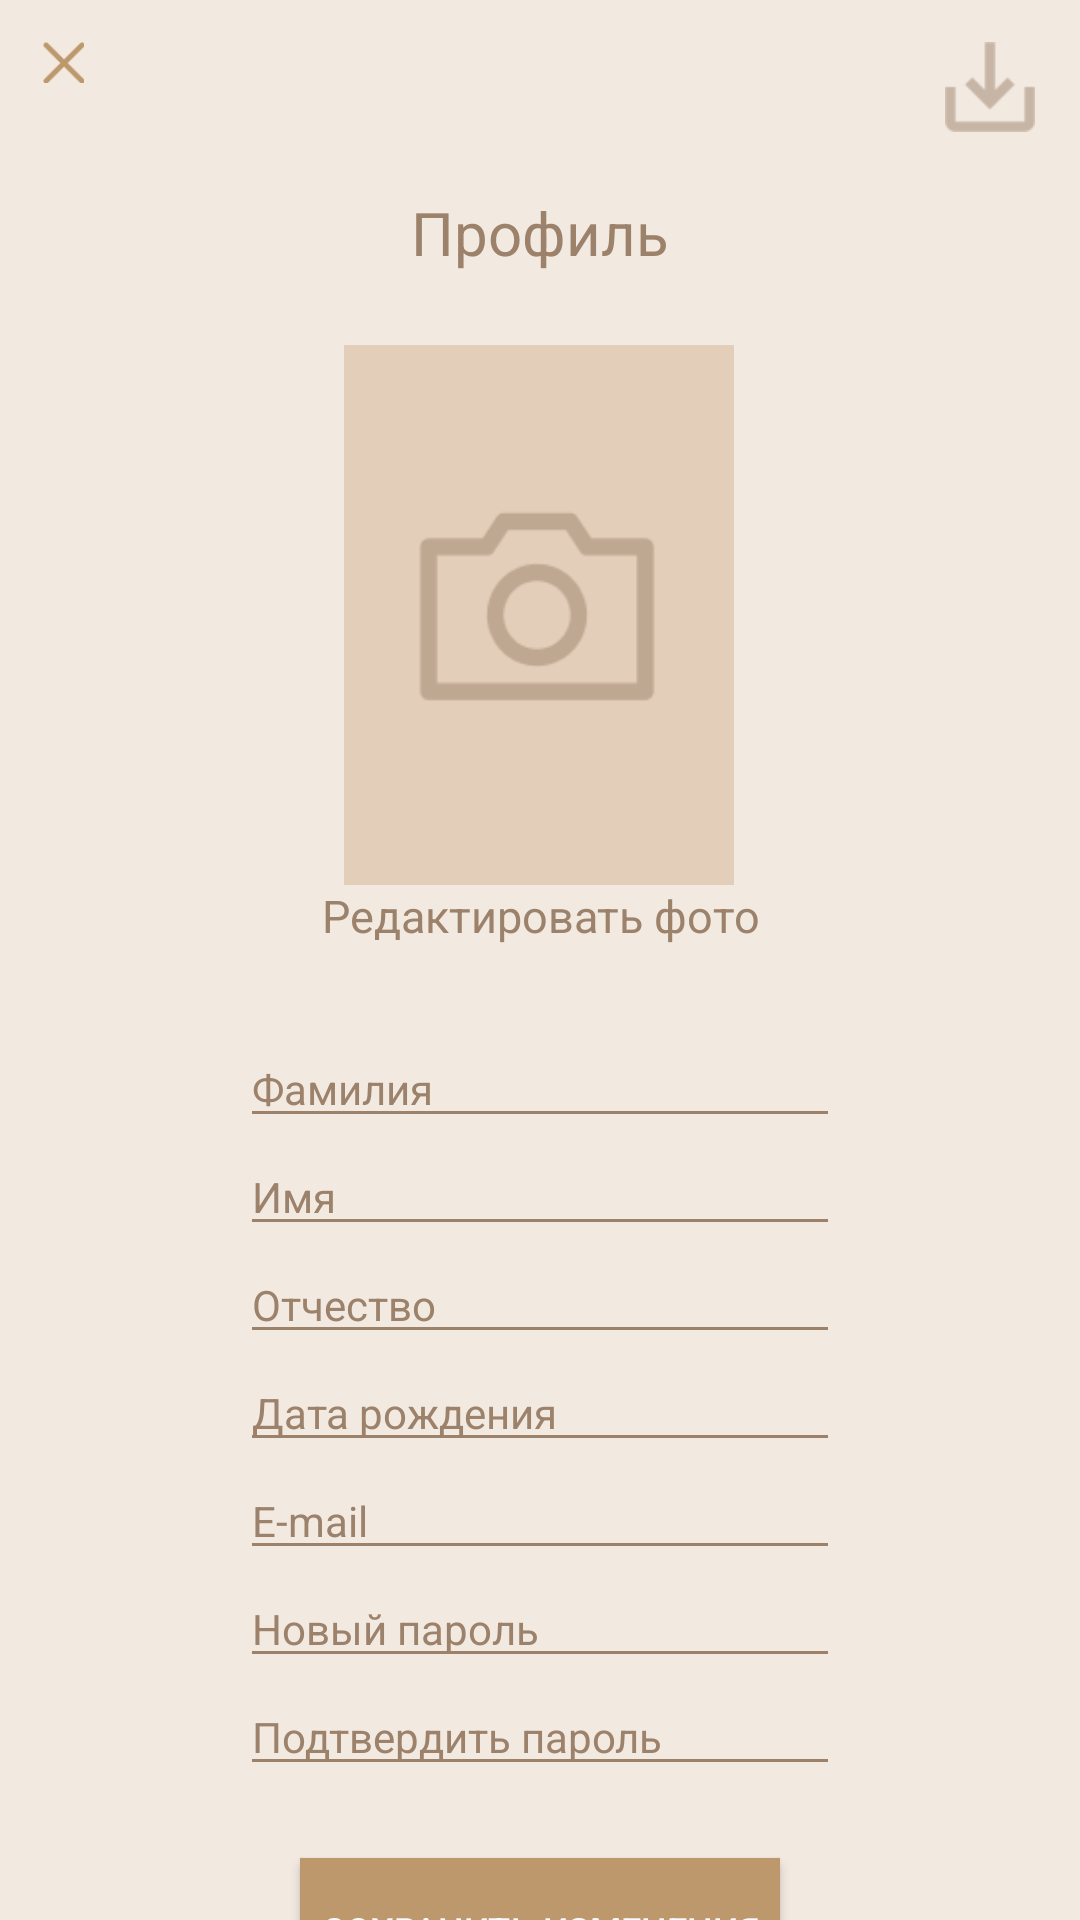

Icons on this 1080 x 1920 Android screen, each with its box as (x1, y1, x2, y2):
close: (43, 42, 84, 83)
download: (945, 42, 1035, 132)
